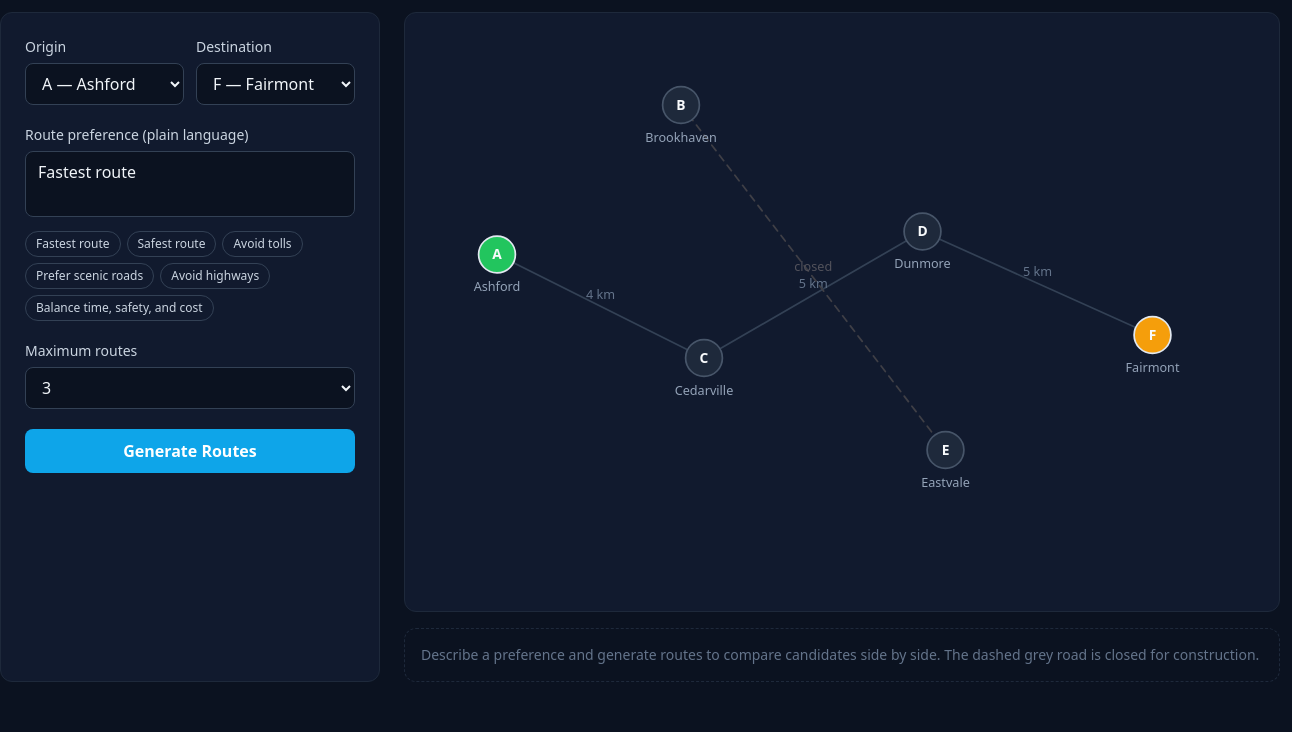
Test: RoutePlanner › renders structured API errors (unreachable destination)
The image size is (1292, 732).
Expected: the dropdown labelled "Origin" is shown, [25,63,184,105]
Click the button "Generate Routes": {"x": 190, "y": 451} [25,429,355,473]
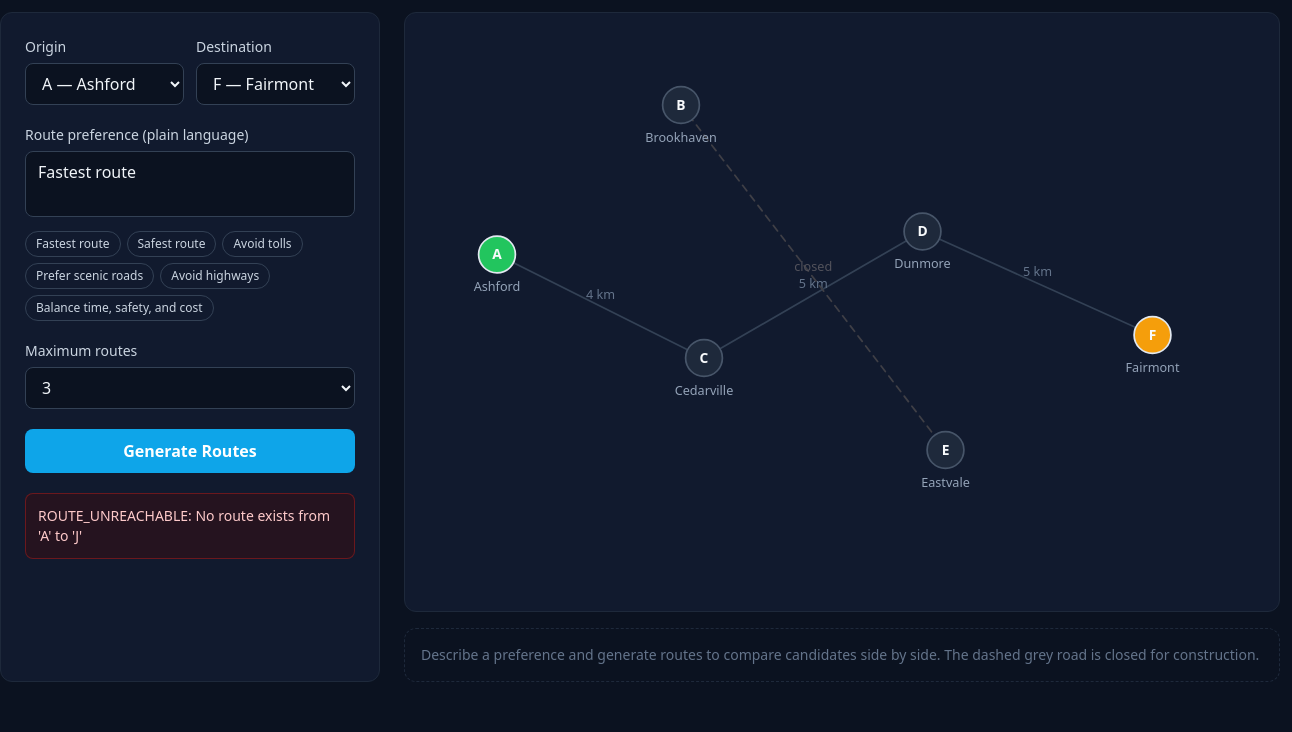
Expected: the message shows "ROUTE_UNREACHABLE", [38,506,330,545]
